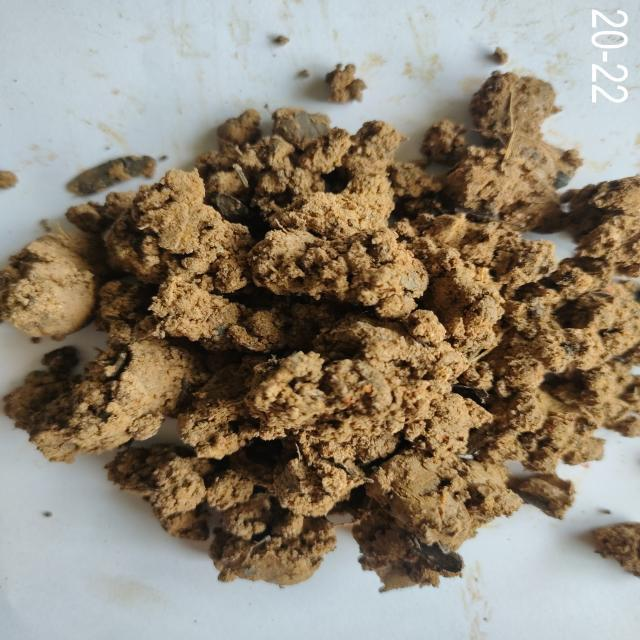soil: (156, 224, 514, 504)
